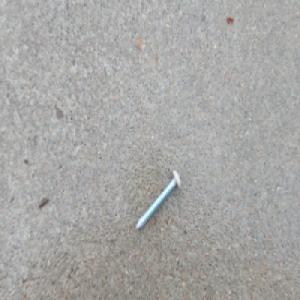Nail: (134, 168, 181, 232)
